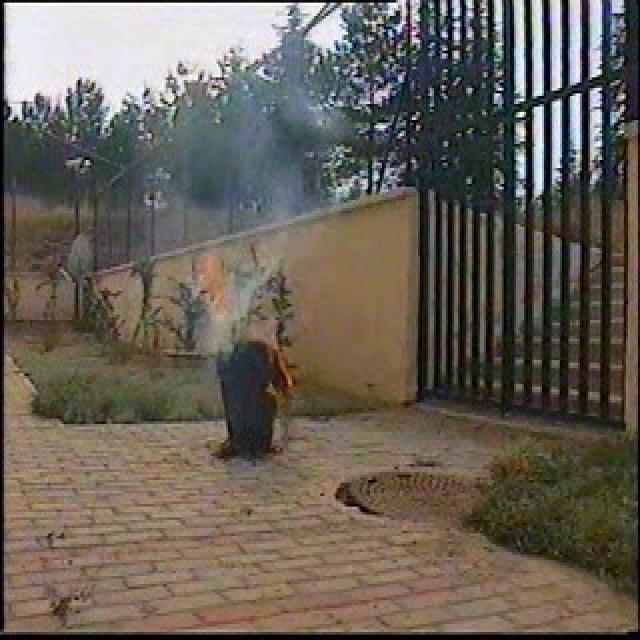Smoke: (235, 121, 312, 281)
